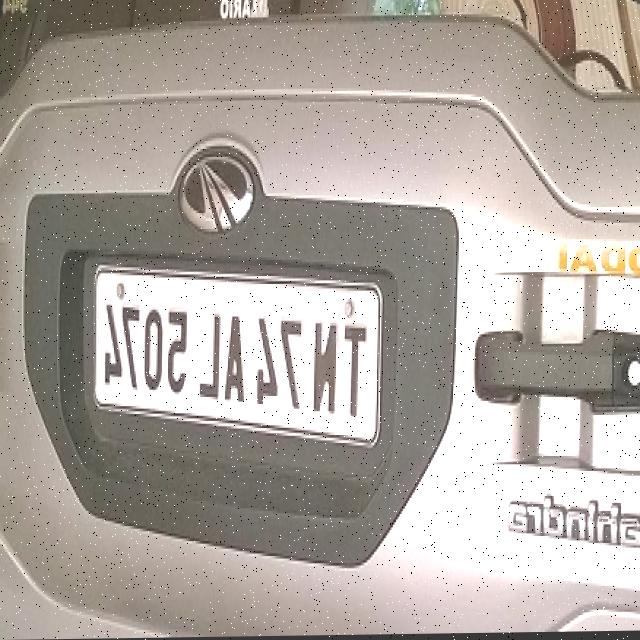plate: (94, 263, 382, 448)
